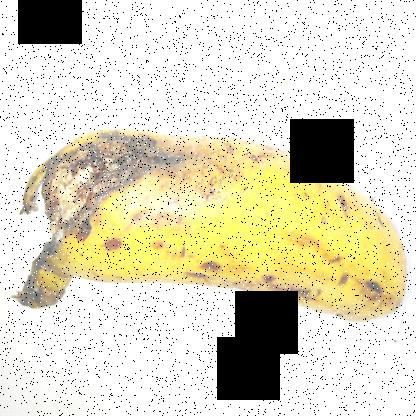rotten: (5, 98, 193, 349)
